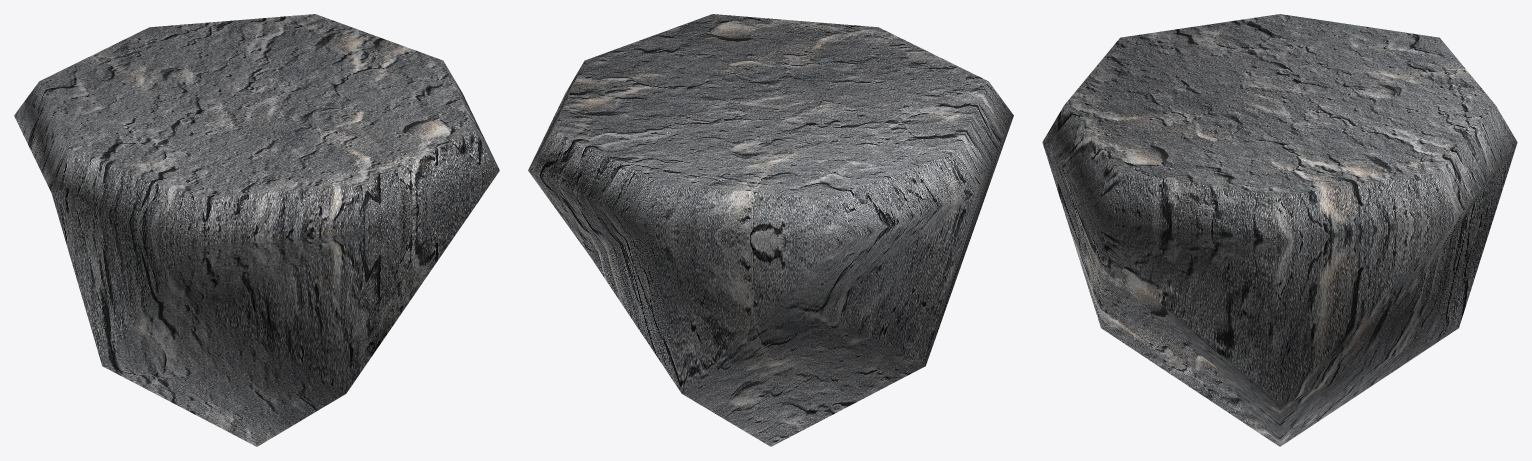
File: RoundPlatform.fbx
3 renders of one model, left to right at view 1: azimuth 30°, elevation 25°; view 2: azimuth 150°, elevation 25°; view 3: azimuth 270°, elevation 25°, orthographic.
Parts seen in each view (by area): view 1: pCube1; view 2: pCube1; view 3: pCube1.
Boxes of the visible parts, box(x1,y1,x2,y2) form: pCube1: box(14, 14, 499, 446); pCube1: box(528, 14, 1013, 446); pCube1: box(1042, 14, 1517, 446).
Bounding box in the file's own units: 2.23 × 1.77 × 2.23.
